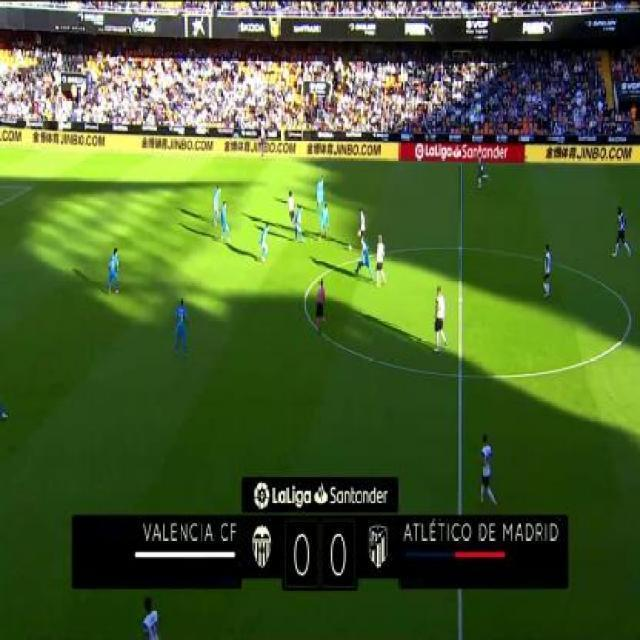ball: (345, 241, 355, 253)
player: (475, 430, 500, 508), (614, 204, 635, 263), (432, 285, 449, 353), (172, 298, 190, 356), (540, 241, 554, 301), (106, 246, 121, 297), (356, 238, 373, 281), (375, 236, 389, 288), (474, 153, 492, 191), (318, 204, 331, 243), (258, 222, 270, 262), (211, 187, 221, 229), (221, 203, 231, 243), (293, 205, 303, 240), (317, 174, 325, 214), (356, 207, 366, 238), (285, 192, 296, 218)
referee: (314, 277, 328, 336)
